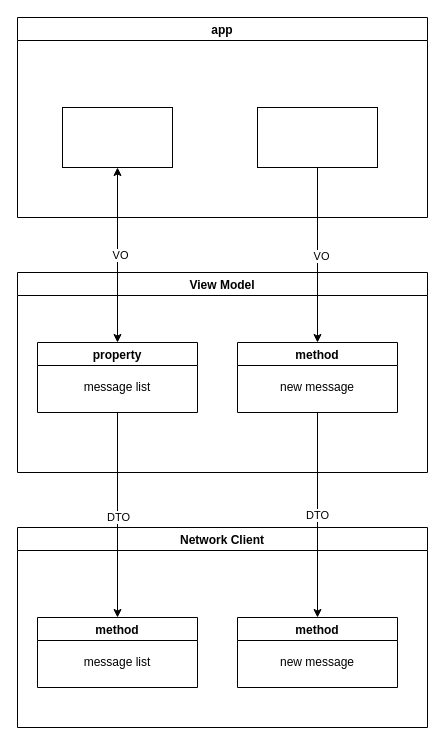
Some shapes in this 445 by 745 pixel diagram are drawn without their labels. Each missing label, with the centre of its shape:
"message list view" belongs at (117,137).
"new message view" belongs at (317,137).
